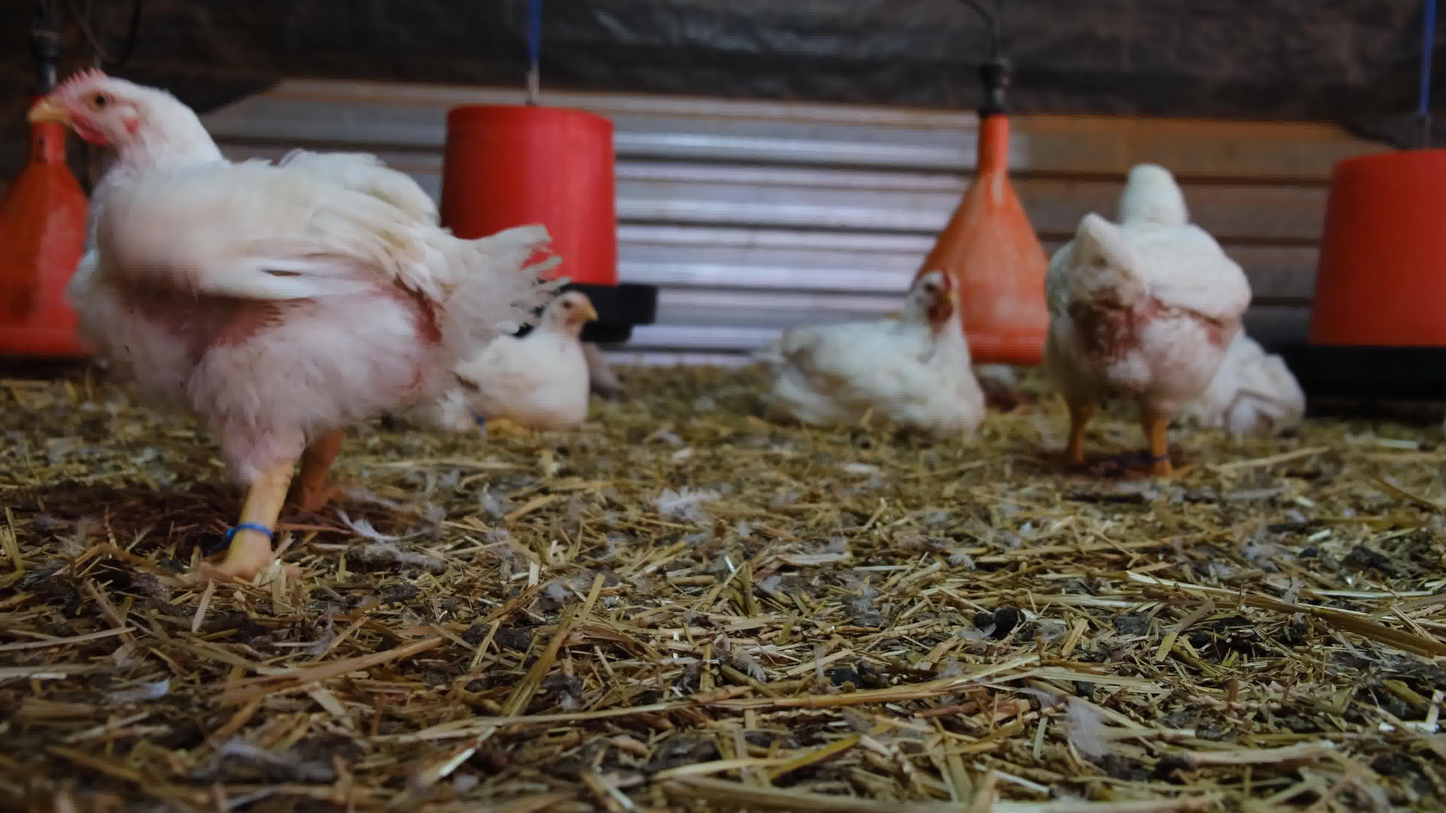AbNormal: (745, 271, 985, 428), (391, 288, 599, 428), (1156, 313, 1307, 431)
Normal: (25, 64, 560, 589), (1043, 158, 1250, 477)
